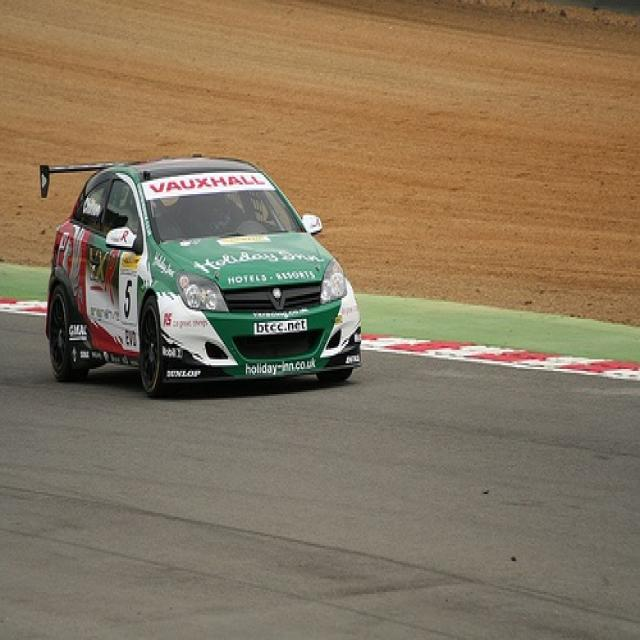car: (38, 157, 362, 397)
